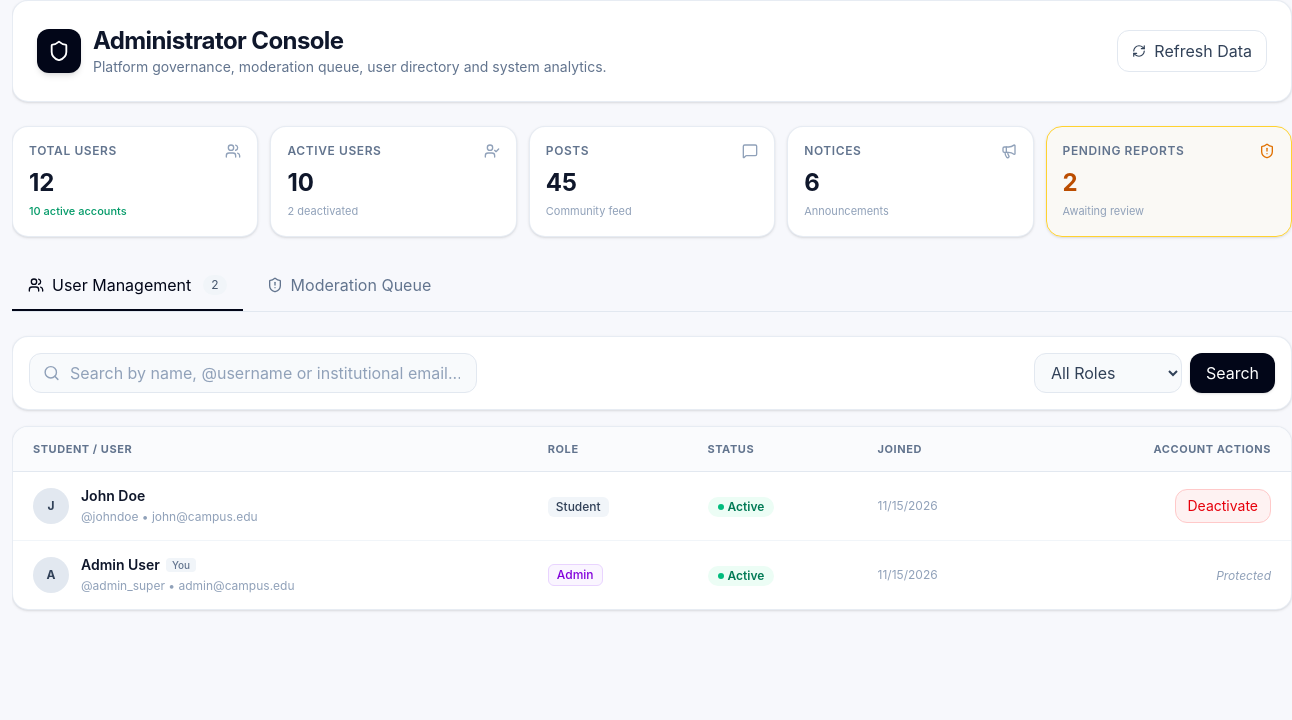
Scenario: Admin Dashboard Page › switches to Moderation Queue tab and displays reported items with action buttons
This screenshot has width=1292, height=720.
Step 1. Click the button "Moderation Queue" → (349, 286), box [251,260,447,310]
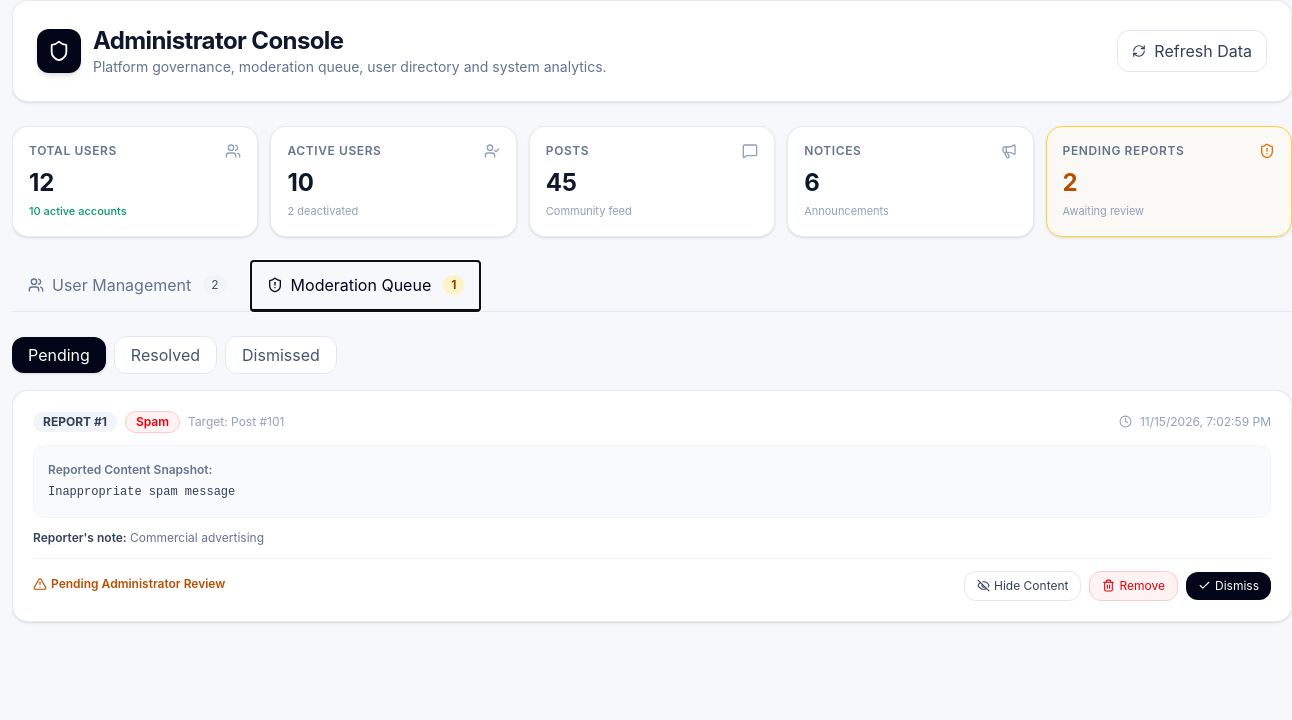
Now the text "Report #1" is shown, box [33,412,117,432]
Now the text "Inappropriate spam message" is shown, box [48,485,235,499]
Now the text "Commercial advertising" is shown, box [130,530,264,544]
